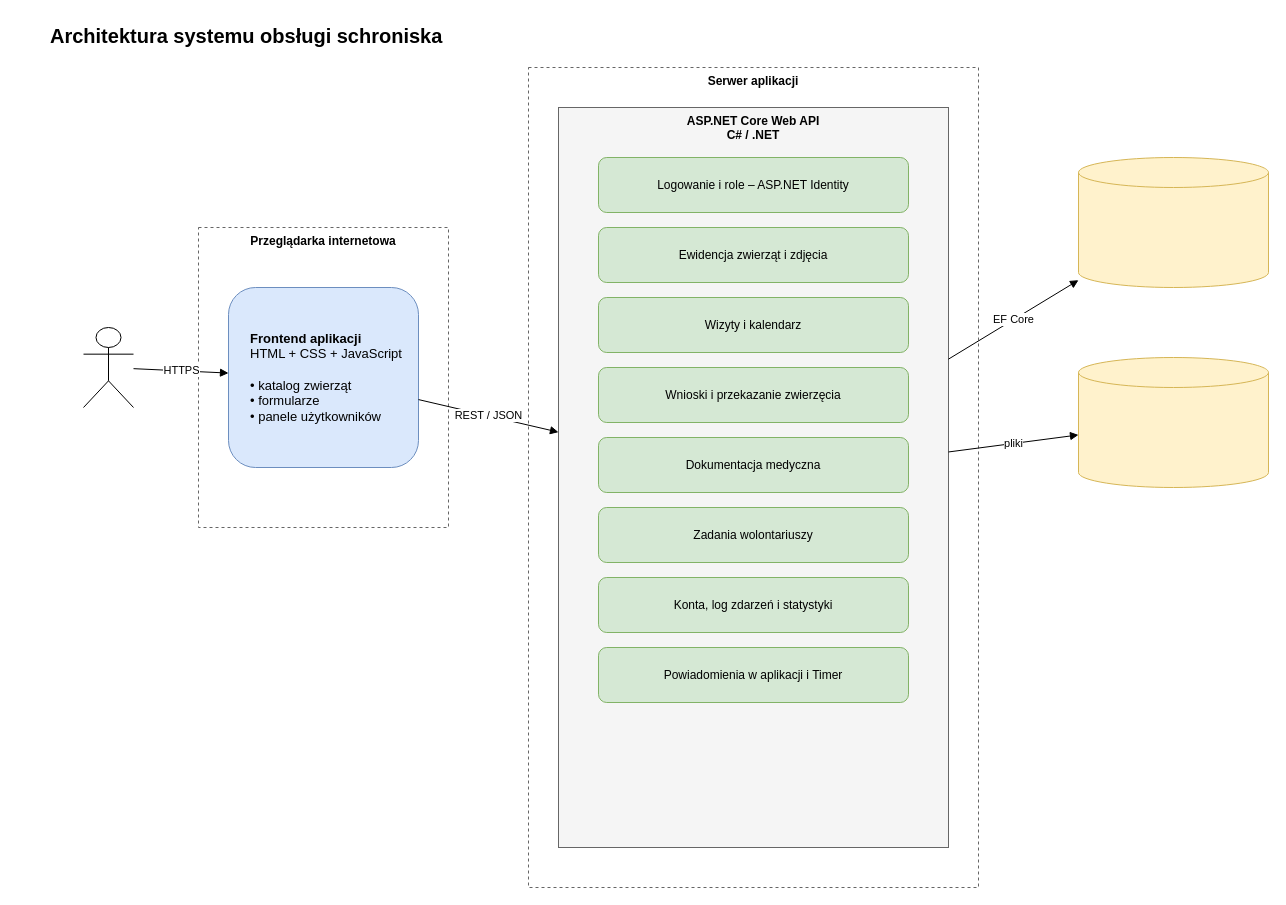
Image size: 1286x905. Some labels were removed from this diagram. The centre of each missing label's shape, as x and y in pixels:
"Magazyn plików zdjęcia zwierząt i dokumenty" belongs at (x=1173, y=422).
"SQLite Entity Framework Core dane systemu + codzienna kopia zapasowa" belongs at (x=1173, y=222).
"Użytkownicy odwiedzający, adoptujący, pracownik, wolontariusz, administrator" belongs at (x=108, y=367).
